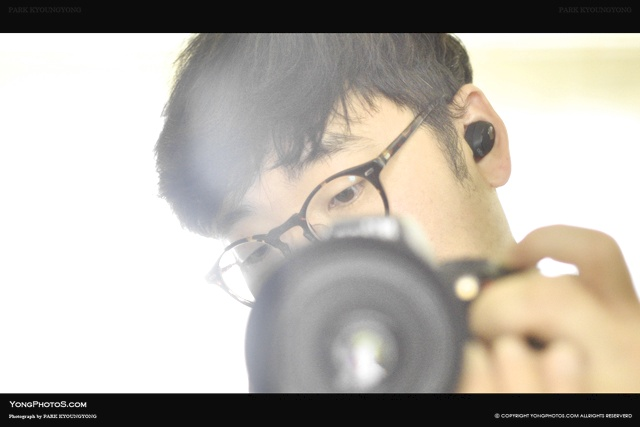earphone: (446, 83, 512, 188)
